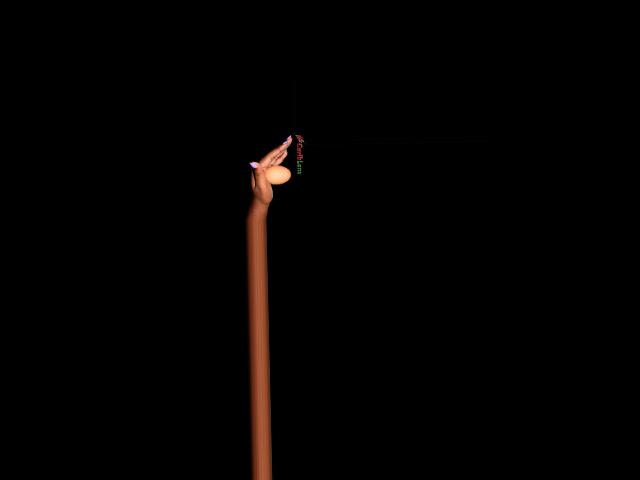egg: (265, 165, 291, 185)
